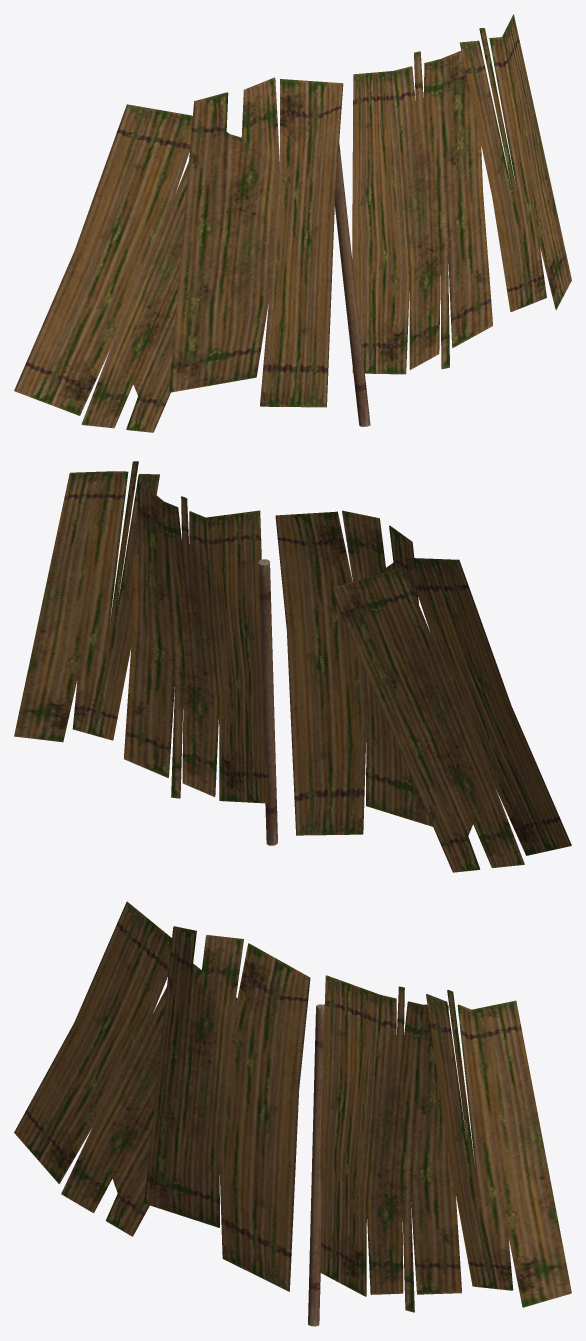
File: i_zx_zhuxi02_01.FBX
3 views of the same model, one above another, from view 1: azimuth 30°, elevation 25°; view 2: azimuth 150°, elevation 25°; view 3: azimuth 330°, elevation 25° (orthographic).
Visible parts, largest first — view 1: i_zx_zhuxi02_01; view 2: i_zx_zhuxi02_01; view 3: i_zx_zhuxi02_01.
Part boxes in pixels (x1,y1,x2,y2): i_zx_zhuxi02_01: [14, 14, 571, 432]; i_zx_zhuxi02_01: [14, 461, 571, 872]; i_zx_zhuxi02_01: [14, 901, 571, 1326].
Bounding box in the file's own units: 4.4 × 2.71 × 0.413.
